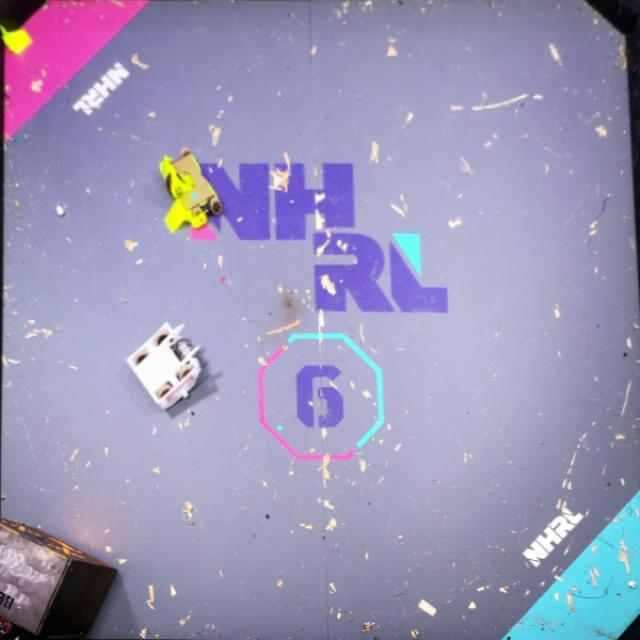housebot: (0, 516, 119, 639)
robot: (124, 318, 206, 414), (155, 148, 220, 235)
